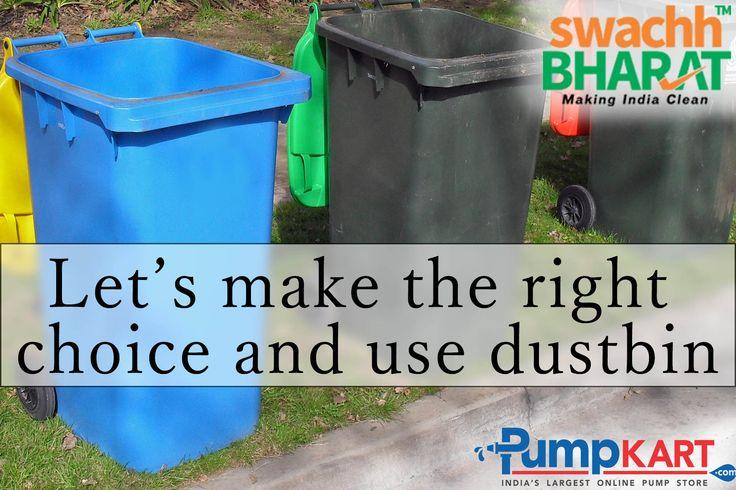road: (269, 386, 736, 488)
trash: (25, 6, 273, 248), (35, 245, 273, 388), (0, 386, 256, 488)
